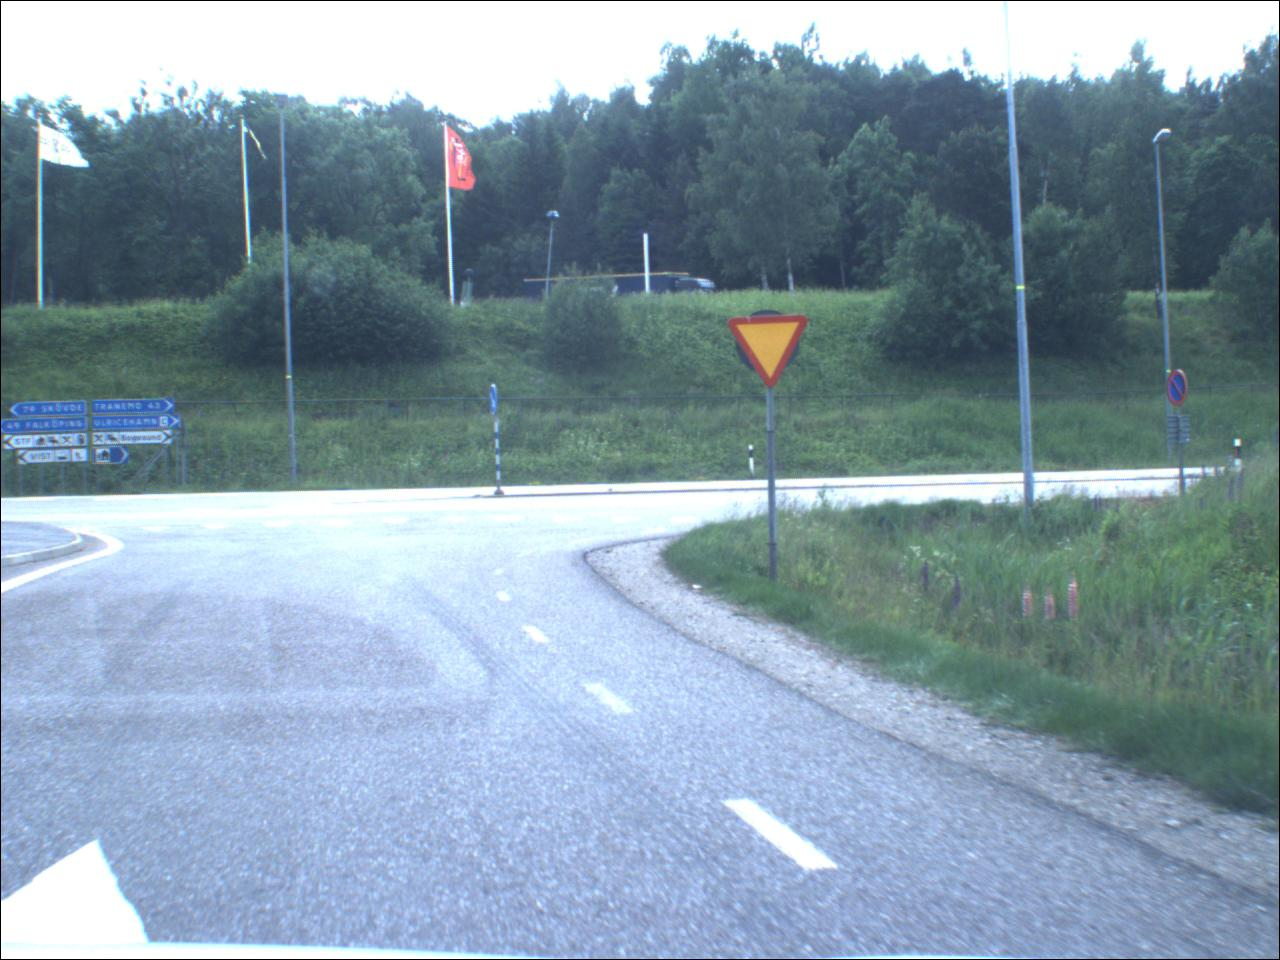GIVE_WAY: (731, 317, 810, 390)
NO_PARKING: (1169, 369, 1192, 409)
PASS_RIGHT_SIDE: (490, 382, 506, 419)
